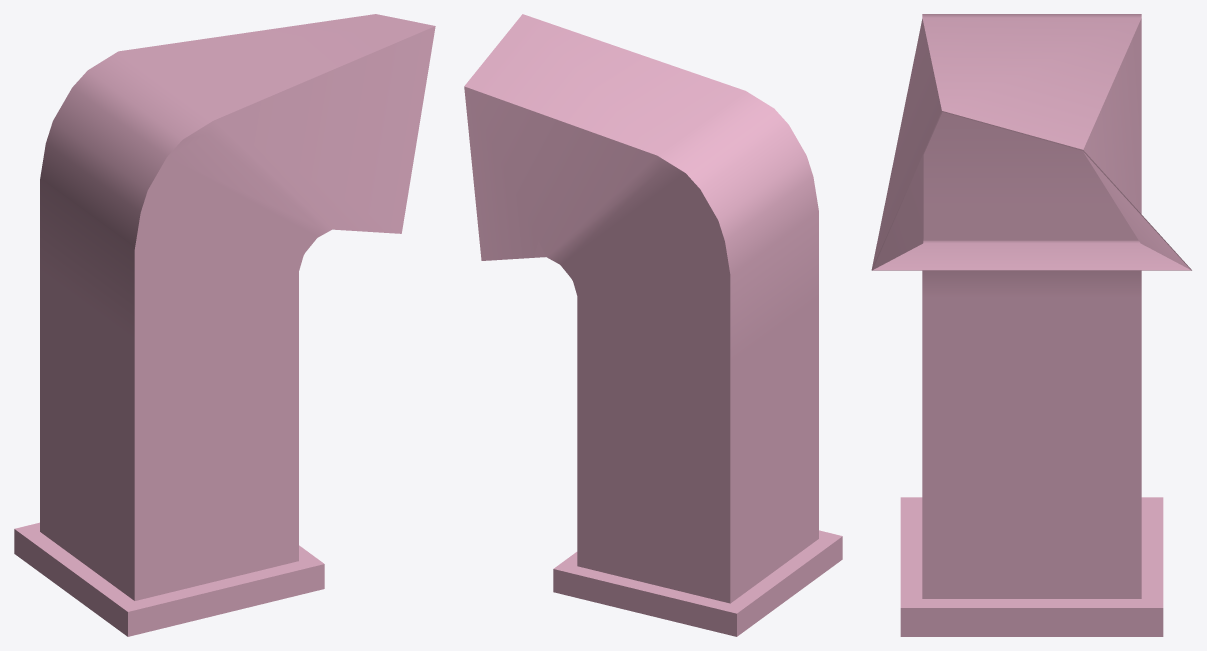
Rendered from Vent.fbx.
3 renders of one model, left to right at view 1: azimuth 30°, elevation 25°; view 2: azimuth 150°, elevation 25°; view 3: azimuth 270°, elevation 25°, orthographic. The views are drawn at different scales.
Visible parts, largest first — view 1: Vent; view 2: Vent; view 3: Vent.
Boxes of the visible parts, x1=… form: Vent: x1=14, y1=14, x2=435, y2=636; Vent: x1=464, y1=14, x2=842, y2=636; Vent: x1=871, y1=14, x2=1191, y2=636.
Bounding box in the file's own units: 332 × 504 × 245.
